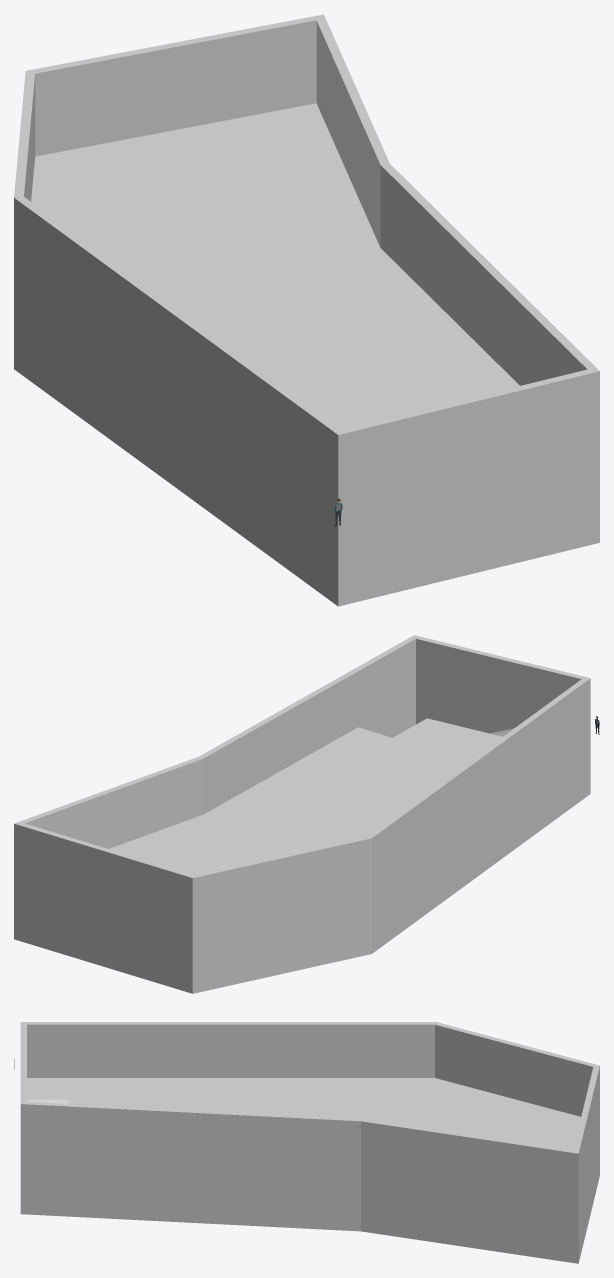
Rendered from DataCenterSketchup.obj.
The picture shows the model from 3 angles, top to bottom: view 1: azimuth 30°, elevation 25°; view 2: azimuth 150°, elevation 25°; view 3: azimuth 270°, elevation 25°; orthographic projection. The views are drawn at different scales.
Parts seen in each view (by area): view 1: Mesh3 RDC1 Model, Mesh2 SS1 Model; view 2: Mesh3 RDC1 Model, Mesh2 SS1 Model; view 3: Mesh3 RDC1 Model, Mesh2 SS1 Model.
Boxes of the visible parts, x1=… form: Mesh3 RDC1 Model: x1=14, y1=14, x2=599, y2=520; Mesh2 SS1 Model: x1=14, y1=284, x2=599, y2=606; Mesh3 RDC1 Model: x1=14, y1=635, x2=590, y2=935; Mesh2 SS1 Model: x1=14, y1=696, x2=590, y2=993; Mesh3 RDC1 Model: x1=20, y1=1022, x2=599, y2=1208; Mesh2 SS1 Model: x1=20, y1=1121, x2=599, y2=1263.
Bounding box in the file's own units: 31.31 × 11.96 × 57.68.
Materials: 21 (4 with a texture image).
